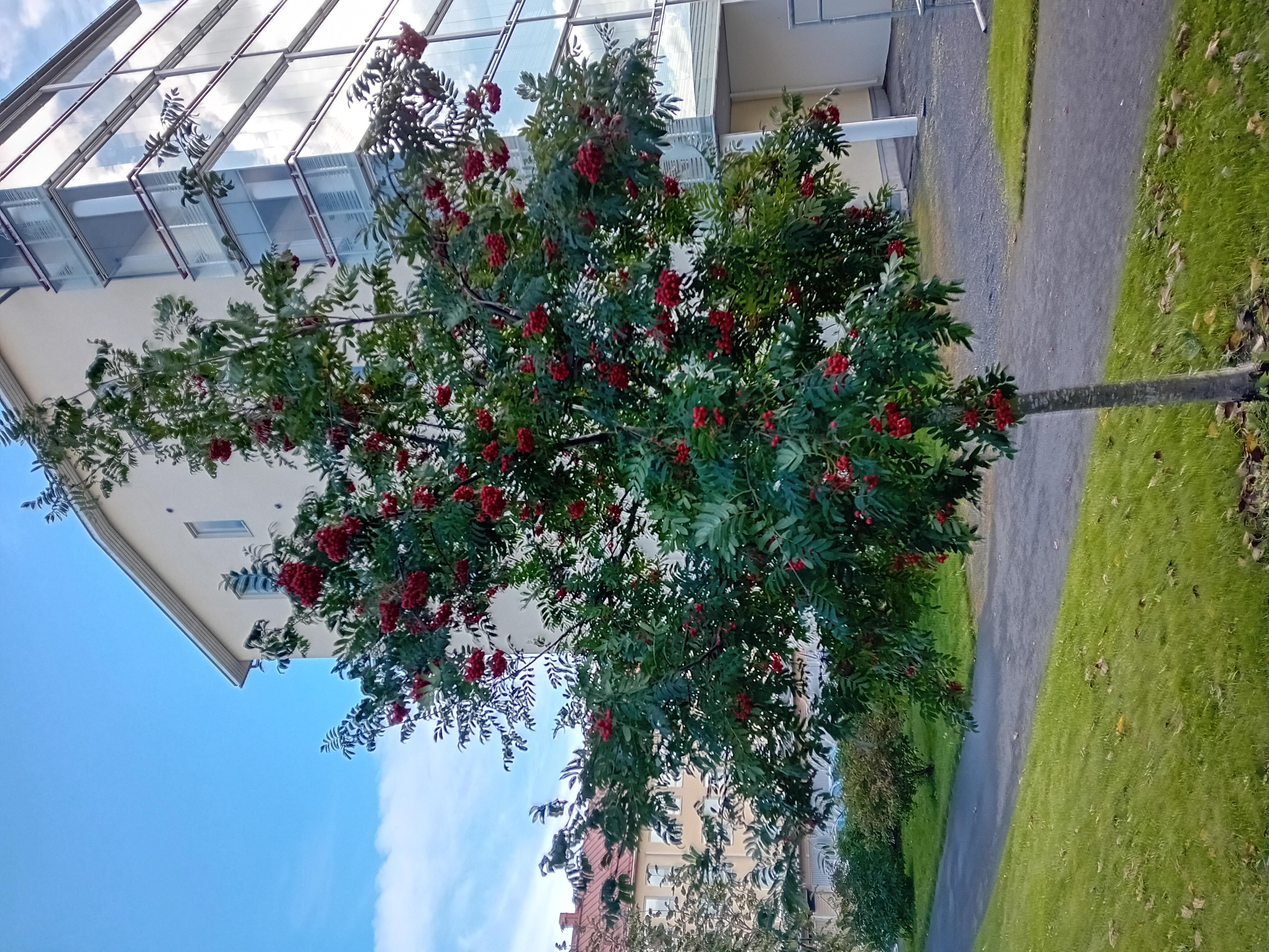Rowan: (114, 2, 1250, 946)
